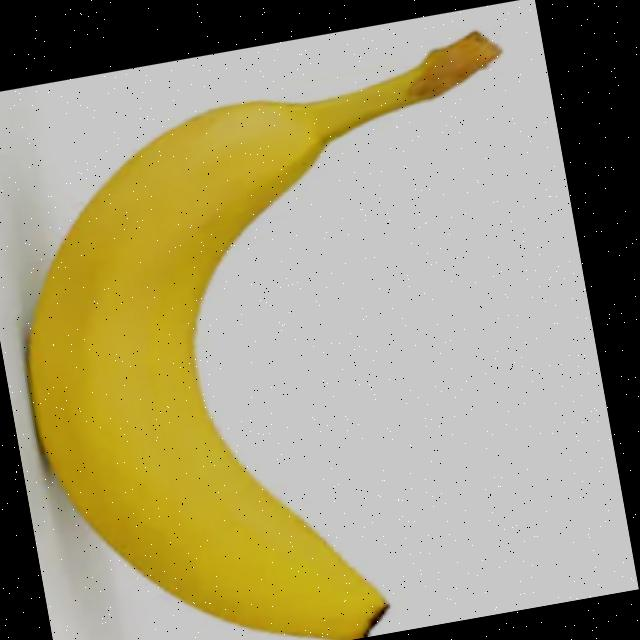banana: (0, 26, 602, 640)
